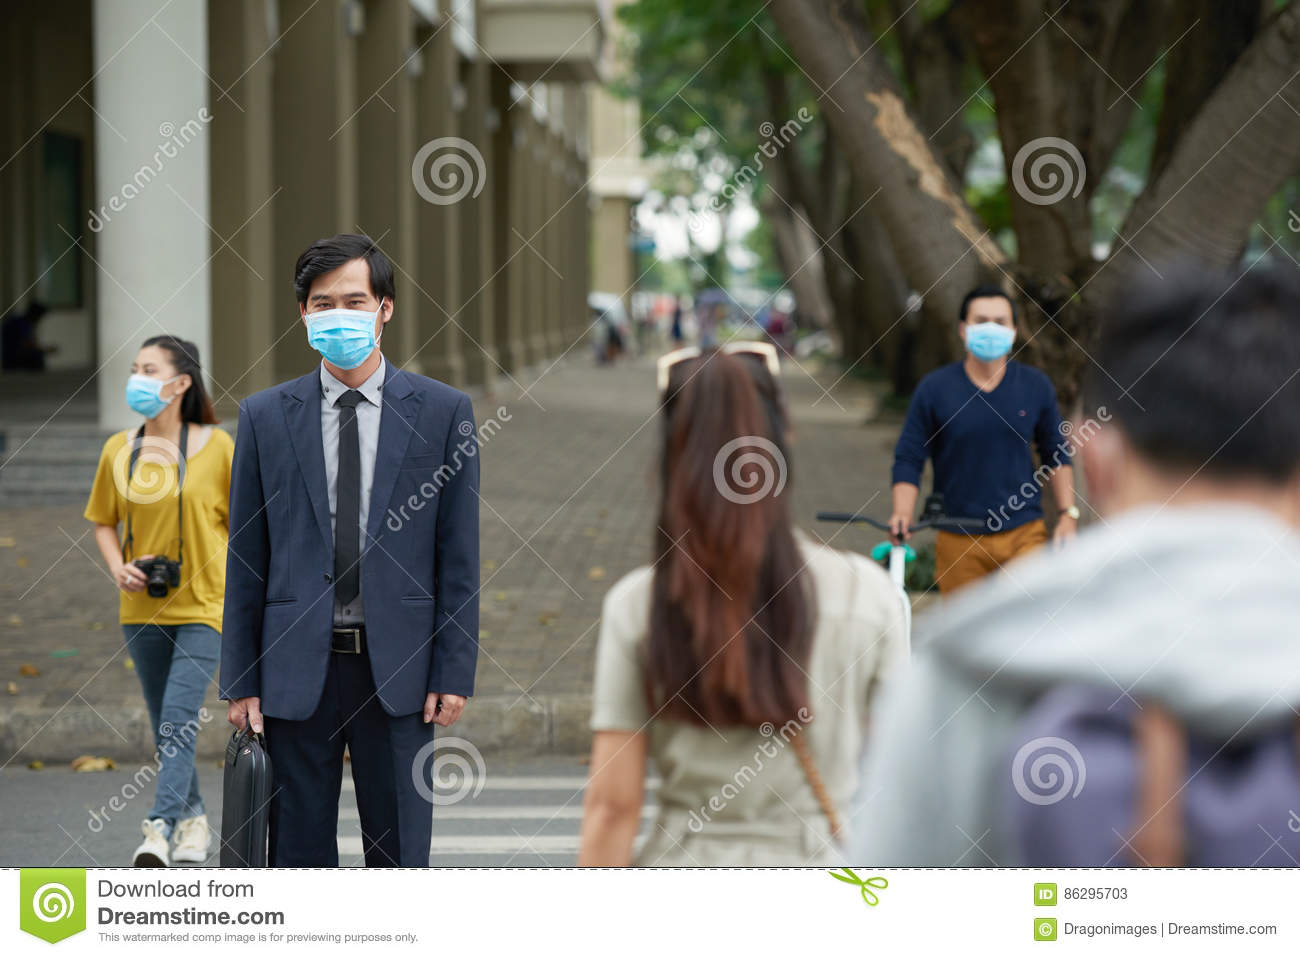mask: (307, 308, 380, 371)
